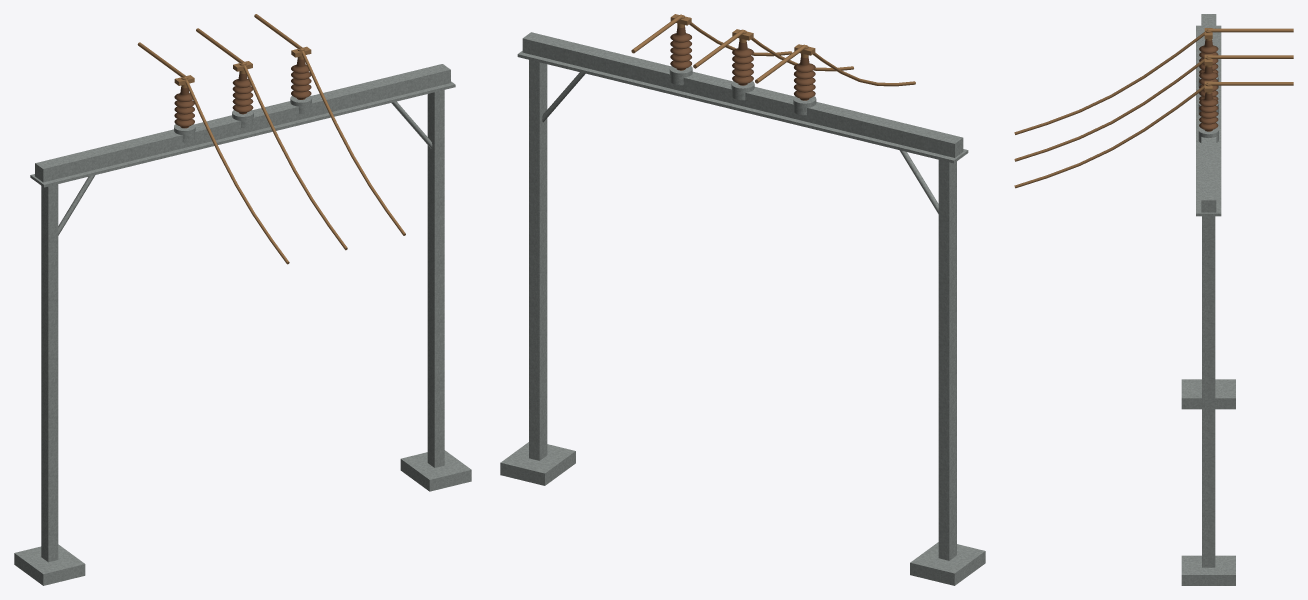
File: SM_Substation_Buswork.glb
3 renders of one model, left to right at view 1: azimuth 30°, elevation 25°; view 2: azimuth 150°, elevation 25°; view 3: azimuth 270°, elevation 25°, orthographic. The views are drawn at different scales.
Visible parts, largest first — view 1: SM_Substation_Buswork; view 2: SM_Substation_Buswork; view 3: SM_Substation_Buswork.
Part boxes in pixels (x1,y1,x2,y2): SM_Substation_Buswork: (14, 14, 471, 585); SM_Substation_Buswork: (500, 14, 985, 585); SM_Substation_Buswork: (1014, 14, 1293, 585).
Size of the model in its own units: 7.65 by 7.88 by 4.61.
Materials: 3 (1 with a texture image).
